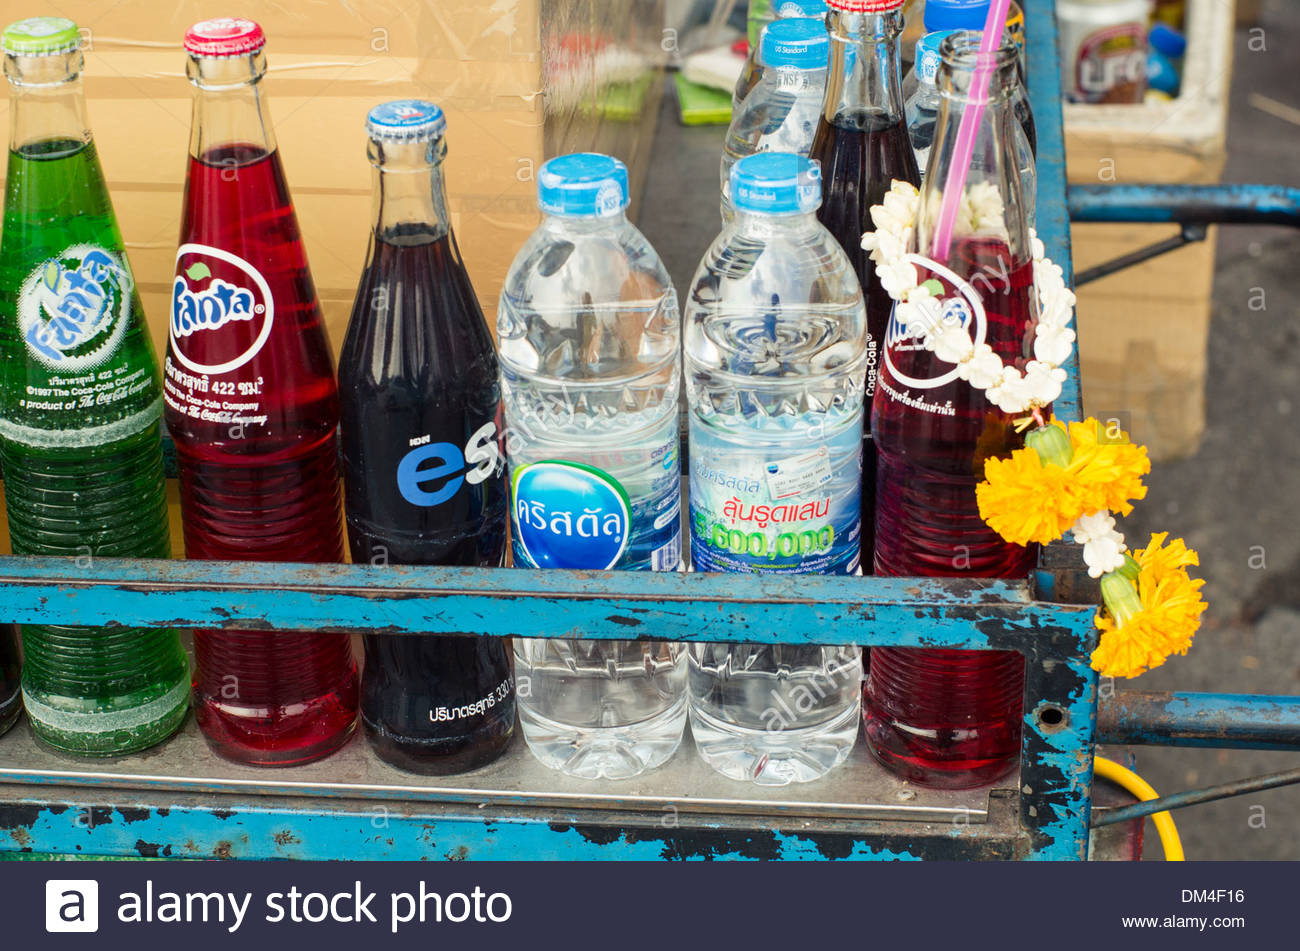Rec_Glass: (142, 17, 361, 761), (1, 24, 182, 759), (336, 90, 520, 775), (871, 30, 1019, 788)
Rec_Plastic: (491, 145, 693, 780), (691, 150, 863, 774)
